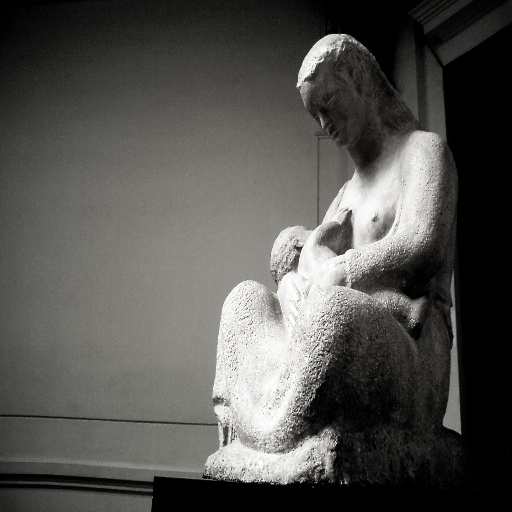hand: (275, 269, 309, 327), (302, 255, 345, 294), (332, 206, 350, 227)
